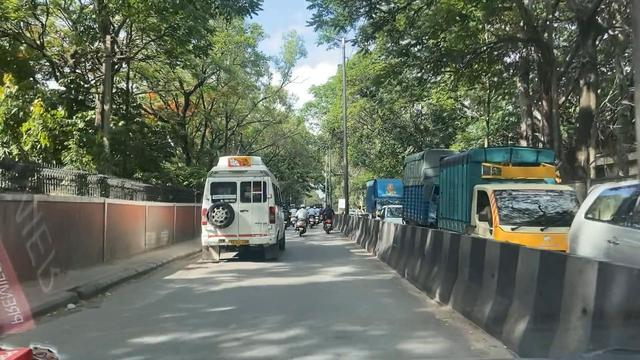HMV: (439, 133, 578, 252), (200, 142, 296, 276)
